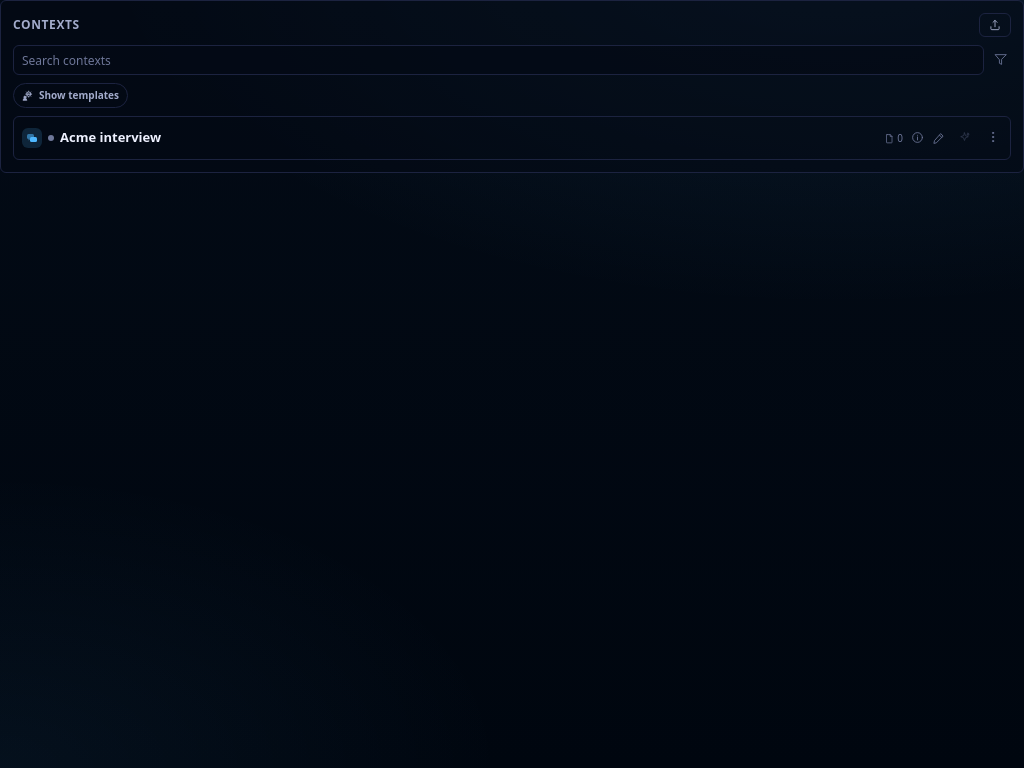
Test case: ContextsPane › disables Generate until the context has a grounding source; the info popover's Status explains why for drafts
The image size is (1024, 768).
Expected: the button named "generate resources for acme interview" is disabled, top-left (951, 121), bottom-right (978, 155)
Expected: the element titled "Draft" is shown, top-left (48, 135), bottom-right (54, 141)
Click the button named "info for acme interview". click: (918, 138)
box: top-left (909, 129), bottom-right (926, 146)
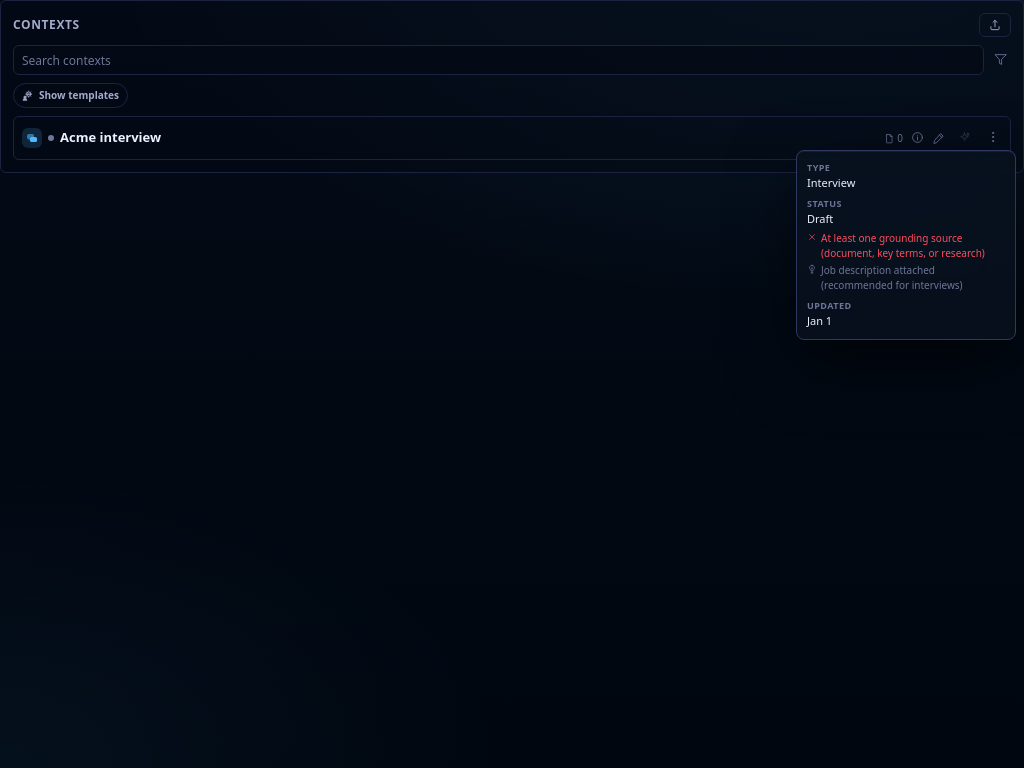
Now the text "At least one grounding source" is shown, box top-left (821, 231), bottom-right (985, 260)
